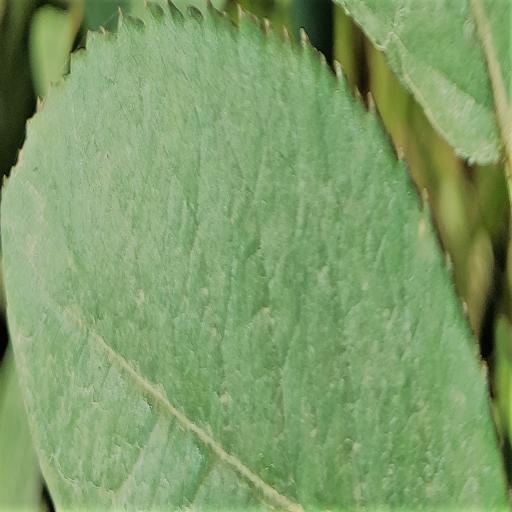healthy_leaf: (2, 7, 507, 509)
